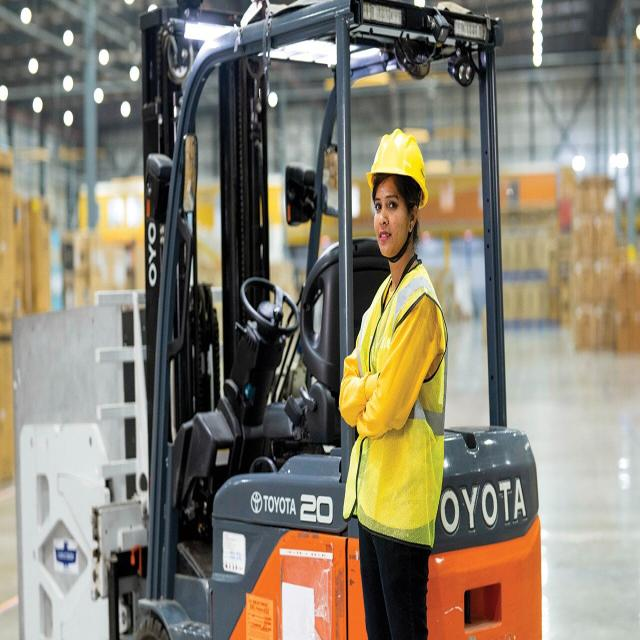Person: (339, 130, 447, 640)
